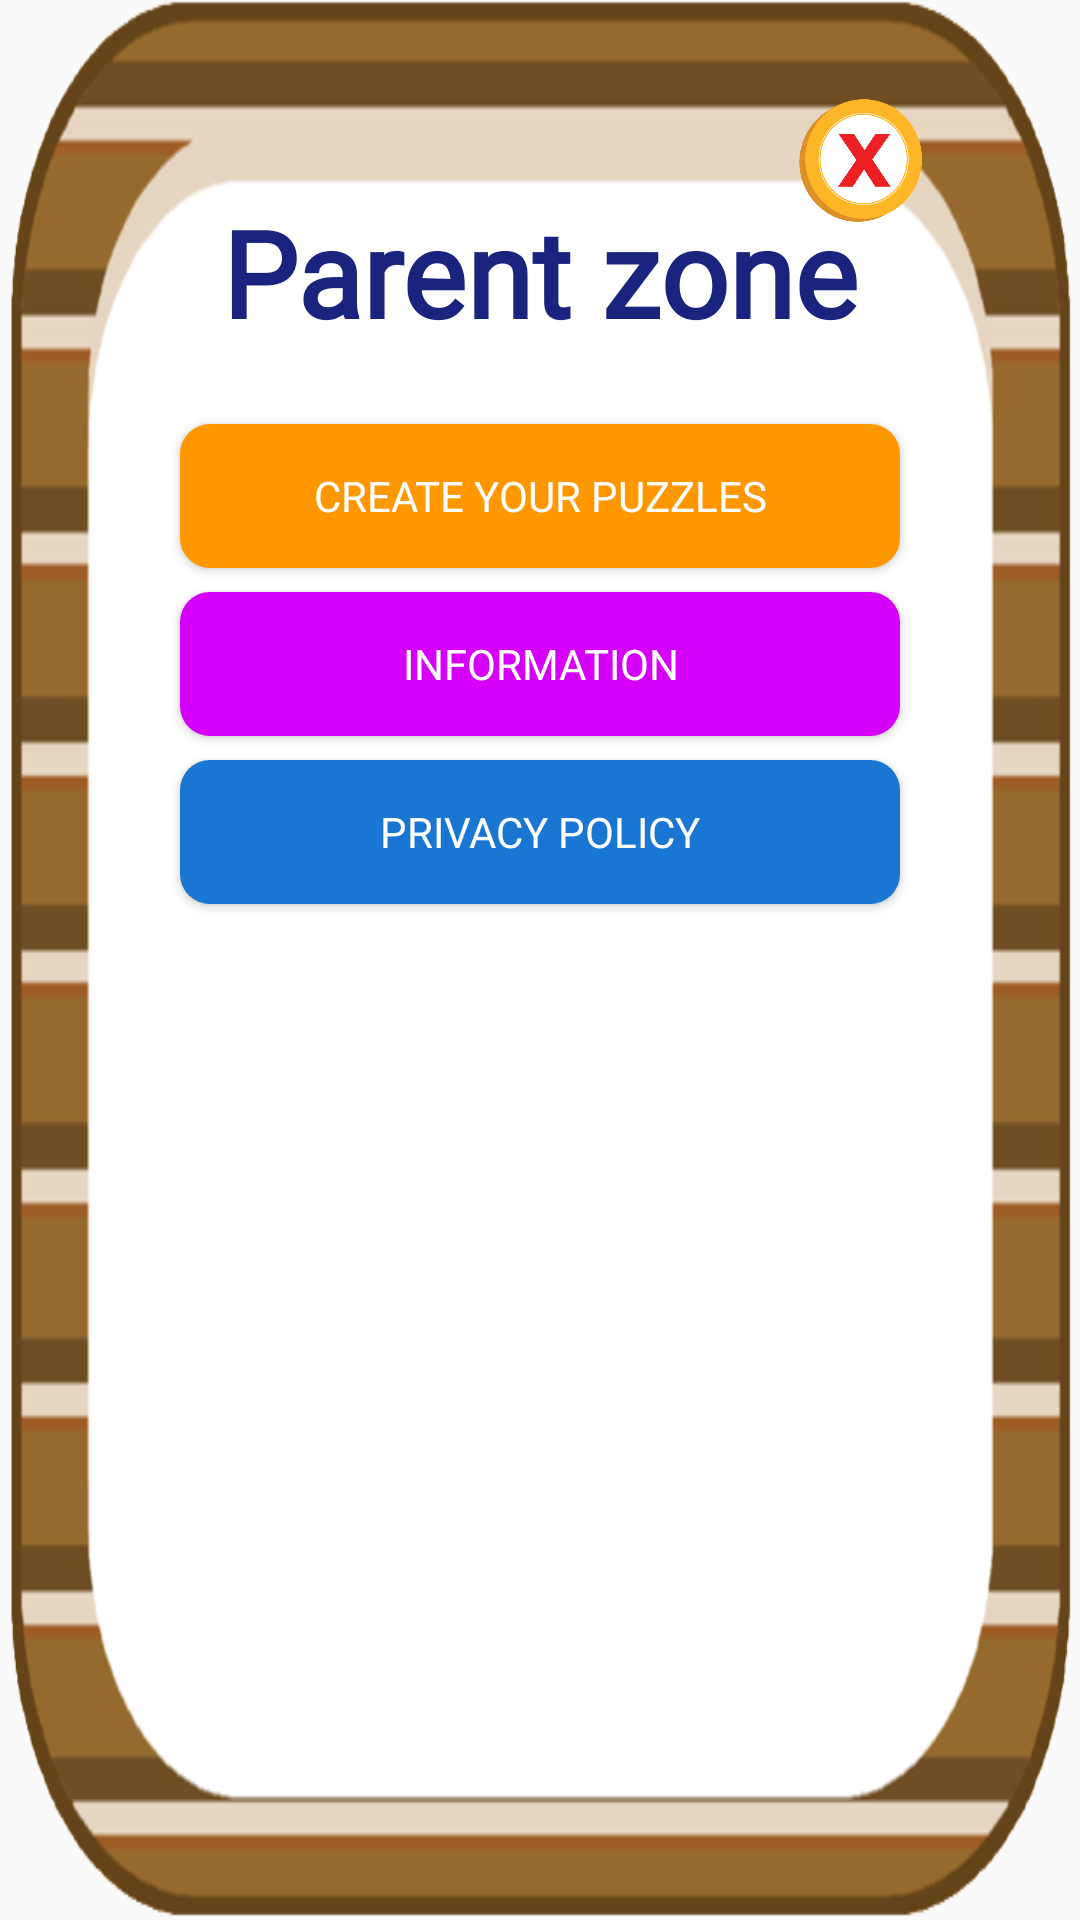

Icons on this 1080px x 1920px Android screen, each with the point to tap as (x,y):
canclebtn: (861,159)
